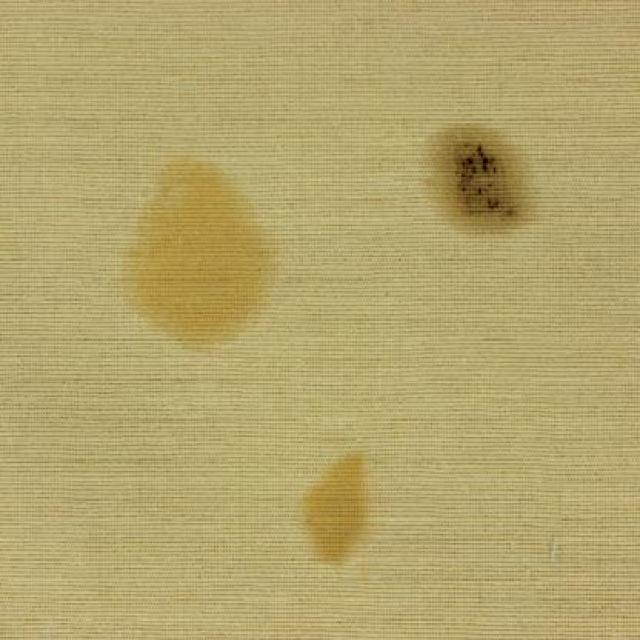Thread_other: (92, 136, 318, 362), (248, 406, 434, 594), (412, 112, 556, 248)
